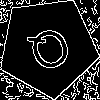Q: (23, 22, 79, 83)
